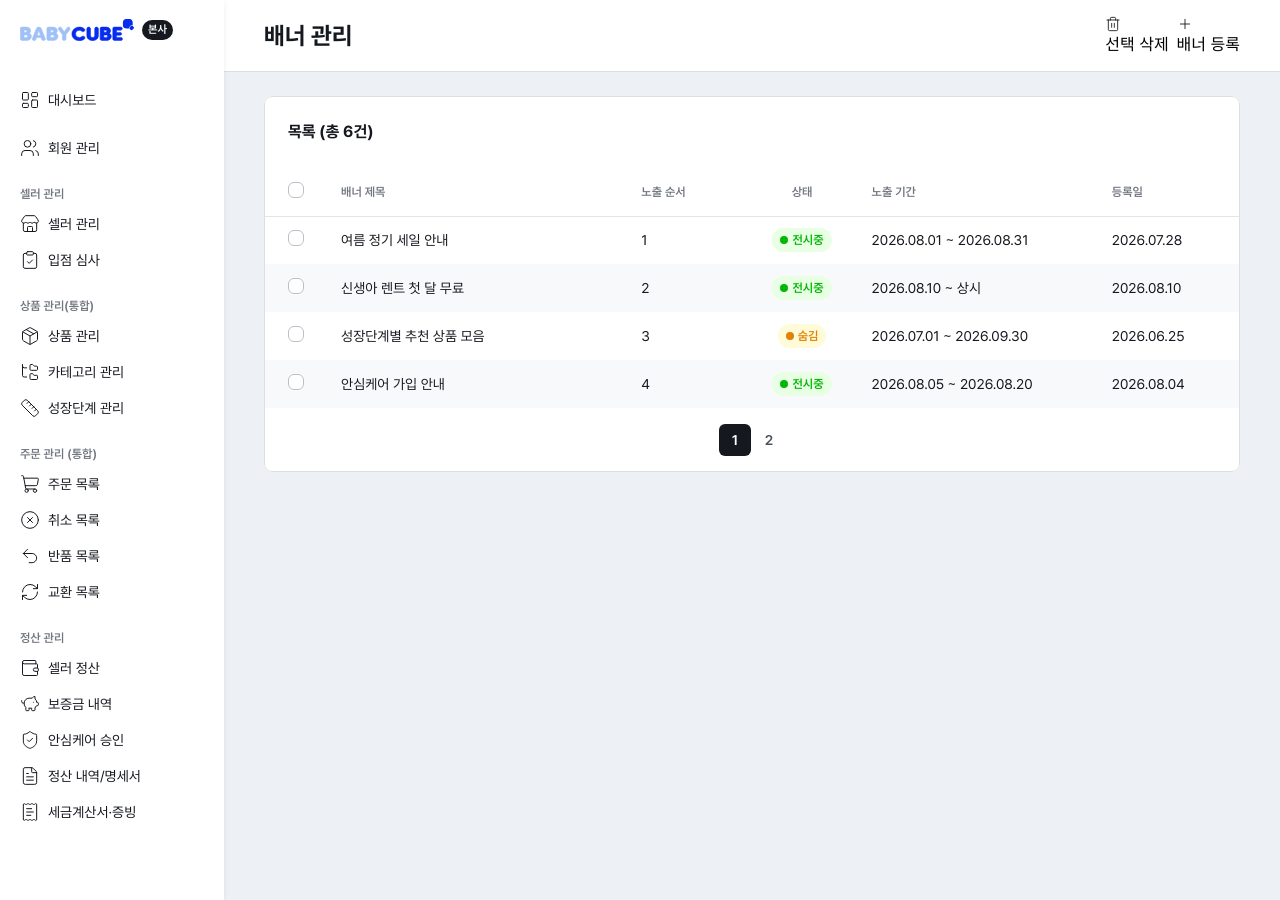
Test case: BannerListPage › 수정 모달 › 행을 클릭하면 그 배너 값이 채워진 수정 모달이 열린다
Click the row "여름 정기 세일 안내 1 전시중 2026.08.01 ~ 2026.08.31 2026.07.28".
click(752, 240)  # box [264, 216, 1240, 264]
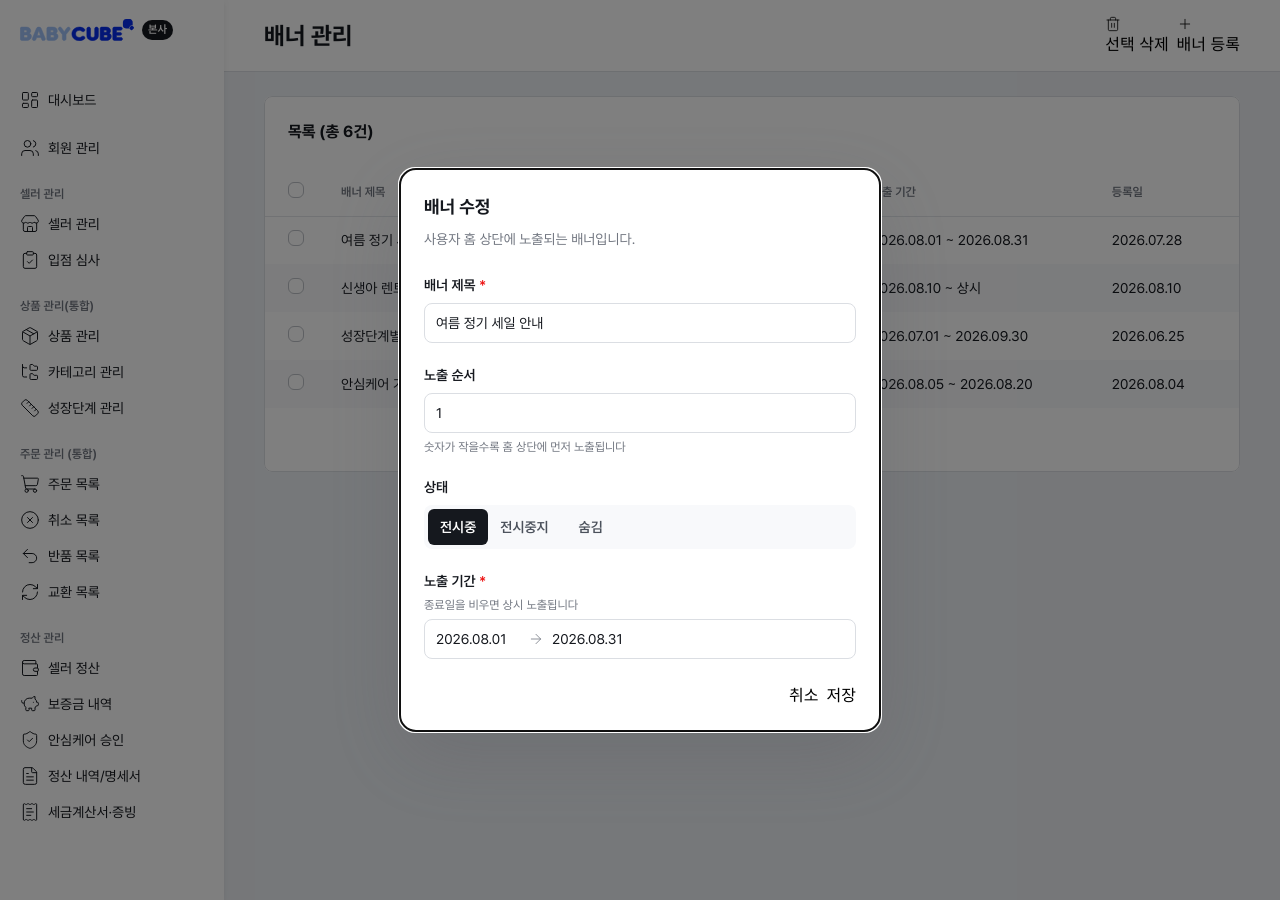
Expected: the heading "배너 수정" is shown, [424, 196, 490, 217]
Expected: the field labelled "배너 제목 *" holds "여름 정기 세일 안내", [436, 311, 844, 335]
